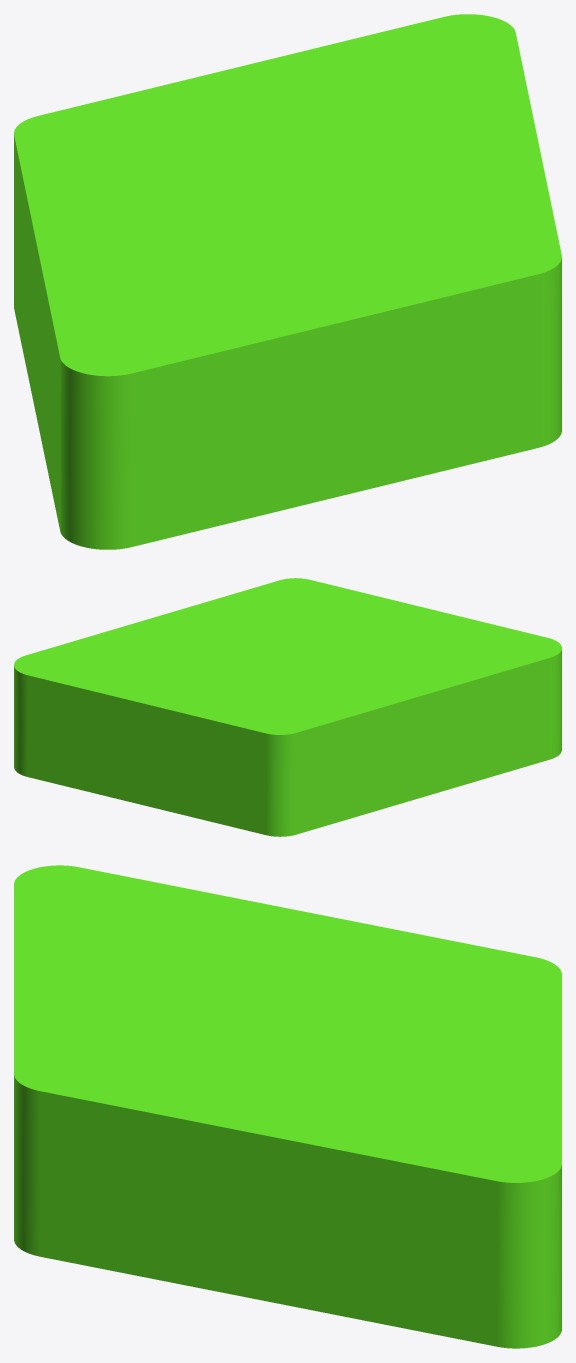
Rendered from plate.glb.
3 renders of one model, top to bottom at view 1: azimuth 30°, elevation 25°; view 2: azimuth 150°, elevation 25°; view 3: azimuth 270°, elevation 25°, orthographic. The views are drawn at different scales.
Parts seen in each view (by area): view 1: plate; view 2: plate; view 3: plate.
Boxes of the visible parts, <box> form: plate: <box>14,14,561,549</box>; plate: <box>14,578,561,836</box>; plate: <box>14,865,561,1348</box>.
Size of the model in its own units: 16.46 by 4 by 12.
